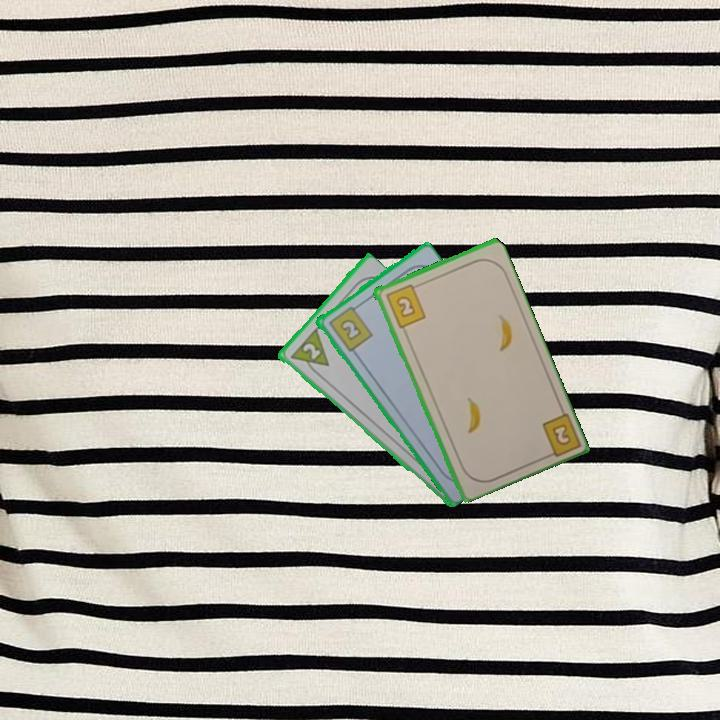2b: (325, 301, 375, 354), (382, 280, 428, 331), (538, 408, 581, 462)
2p: (286, 326, 332, 379)
